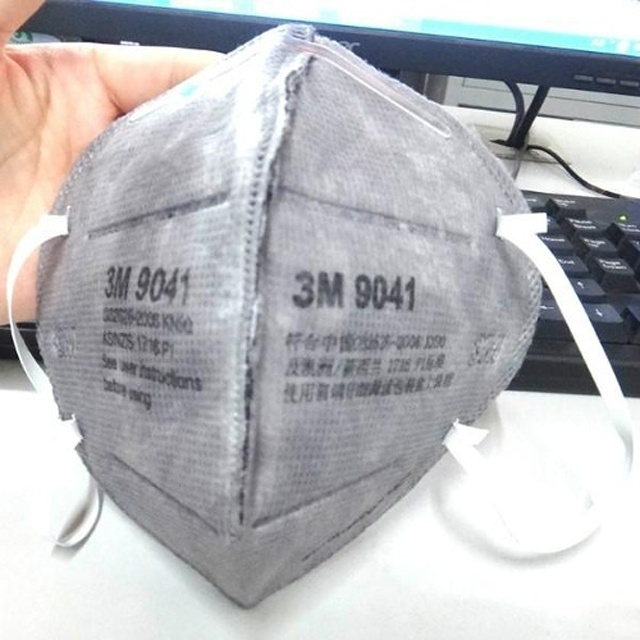mask: (4, 15, 639, 613)
